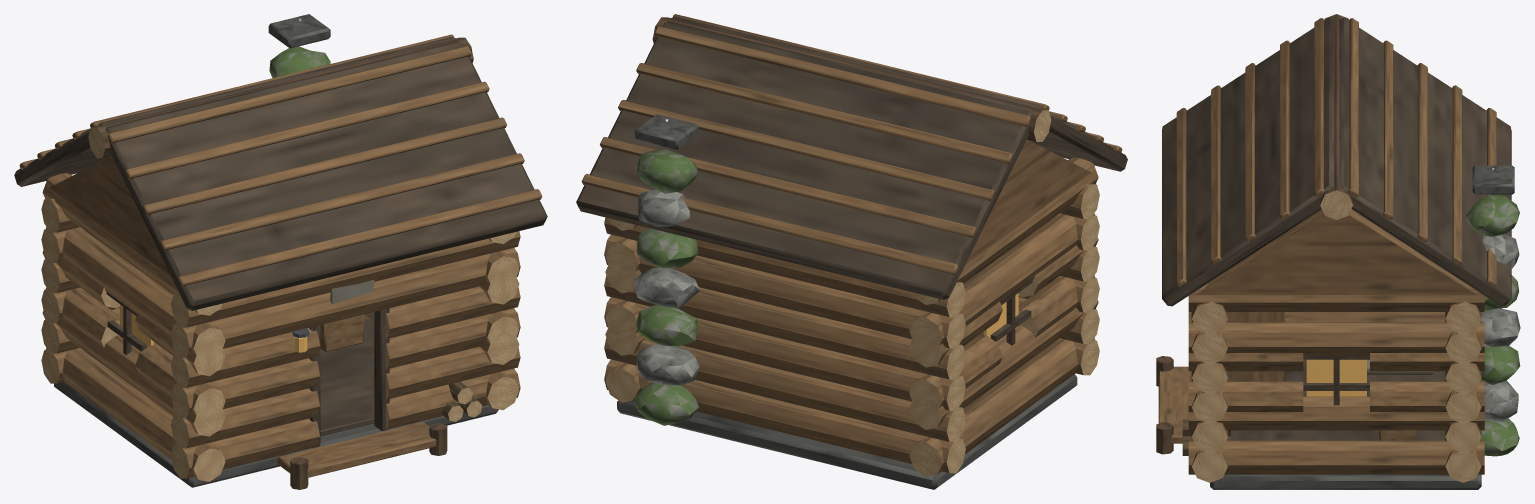
File: SM_Camp_Hut.fbx
3 views of the same model, side by side, from view 1: azimuth 30°, elevation 25°; view 2: azimuth 150°, elevation 25°; view 3: azimuth 270°, elevation 25° (orthographic). The views are drawn at different scales.
Parts seen in each view (by area): view 1: SM_Camp_Hut; view 2: SM_Camp_Hut; view 3: SM_Camp_Hut.
Boxes of the visible parts, x1,y1,x2,y2 form: SM_Camp_Hut: (14, 14, 547, 489); SM_Camp_Hut: (576, 14, 1127, 489); SM_Camp_Hut: (1156, 14, 1520, 489).
Bounding box in the file's own units: 13.8 × 11.53 × 12.06.
1 material, 1 textured.
